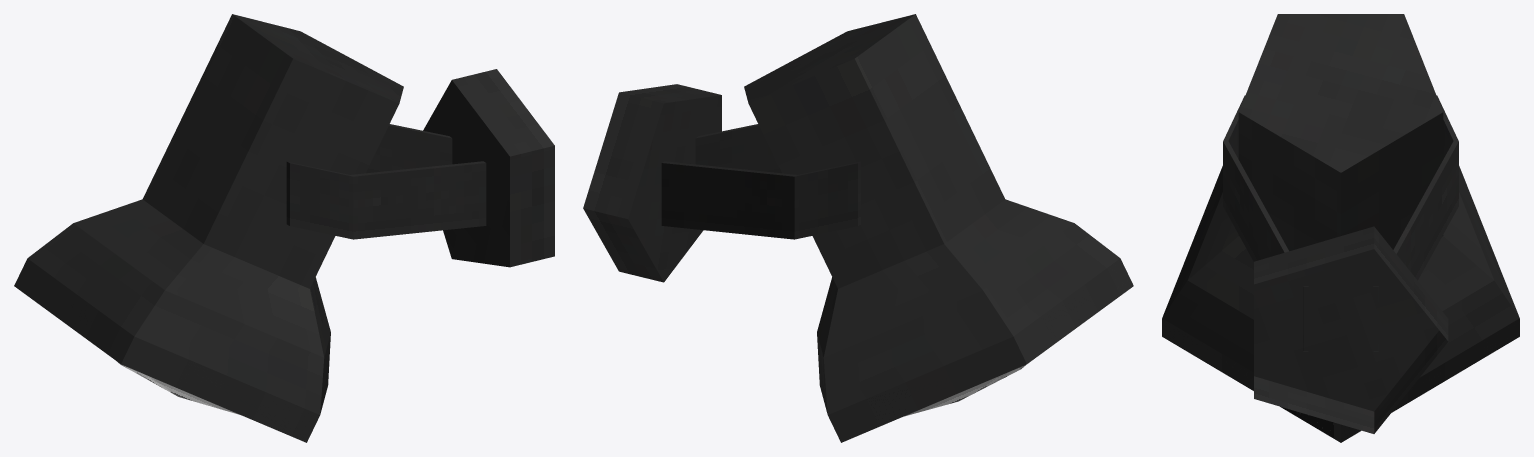
The model's file is LightIndustrial01.obj.
3 renders of one model, left to right at view 1: azimuth 30°, elevation 25°; view 2: azimuth 150°, elevation 25°; view 3: azimuth 270°, elevation 25°, orthographic. The views are drawn at different scales.
Visible parts, largest first — view 1: LightIndustrial01Lamp, LightIndustrial01Stand; view 2: LightIndustrial01Lamp, LightIndustrial01Stand; view 3: LightIndustrial01Lamp, LightIndustrial01Stand.
Part boxes in pixels (bbox=[...]): LightIndustrial01Lamp: bbox=[14, 14, 403, 442]; LightIndustrial01Stand: bbox=[286, 69, 554, 267]; LightIndustrial01Lamp: bbox=[744, 14, 1133, 442]; LightIndustrial01Stand: bbox=[583, 84, 860, 282]; LightIndustrial01Lamp: bbox=[1162, 14, 1519, 442]; LightIndustrial01Stand: bbox=[1223, 95, 1458, 433].
Bounding box in the file's own units: 0.6184 × 0.517 × 0.4161.
